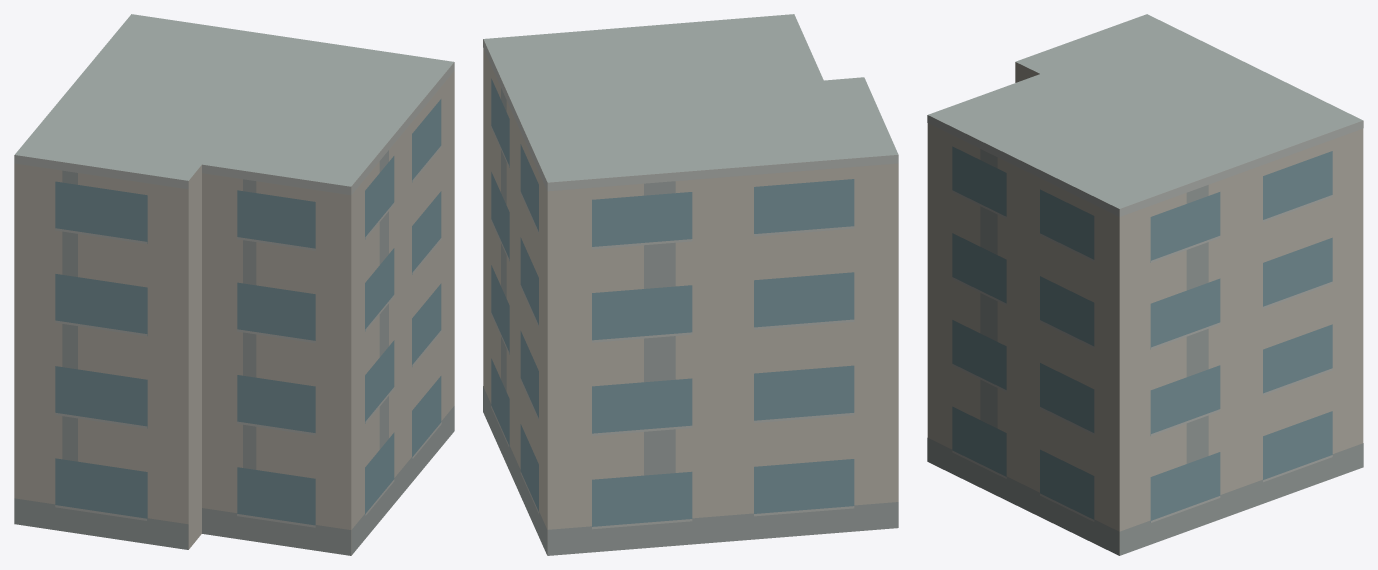
Rendered from residential-2f51f836-743c-4f6c-b688-b34dfe962d73.glb.
3 renders of one model, left to right at view 1: azimuth 30°, elevation 25°; view 2: azimuth 150°, elevation 25°; view 3: azimuth 270°, elevation 25°, orthographic. The views are drawn at different scales.
Parts seen in each view (by area): view 1: residential-2f51f836-743c-4f6c-b688-b34dfe962d73.tmp; view 2: residential-2f51f836-743c-4f6c-b688-b34dfe962d73.tmp; view 3: residential-2f51f836-743c-4f6c-b688-b34dfe962d73.tmp.
Part boxes in pixels (x1,y1,x2,y2): residential-2f51f836-743c-4f6c-b688-b34dfe962d73.tmp: (14,14,454,555); residential-2f51f836-743c-4f6c-b688-b34dfe962d73.tmp: (483,14,898,555); residential-2f51f836-743c-4f6c-b688-b34dfe962d73.tmp: (927,14,1363,555).
Bounding box in the file's own units: 12.67 × 10.5 × 11.96.
